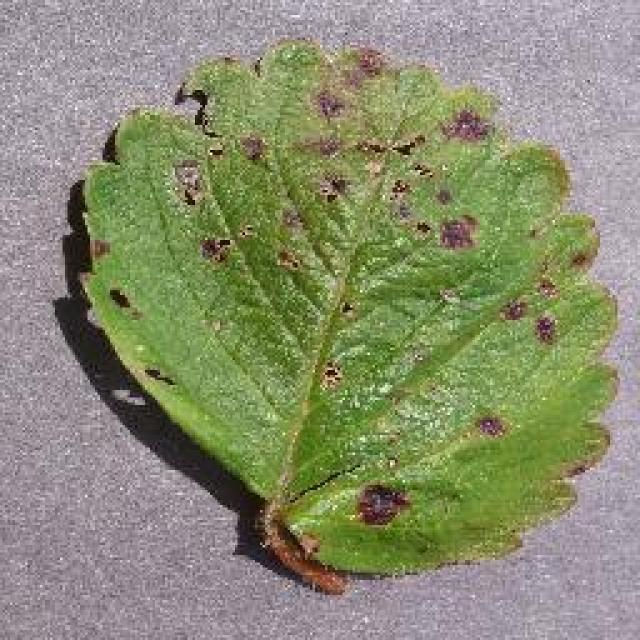Strawberry leaf scorch: (185, 95, 463, 352)
